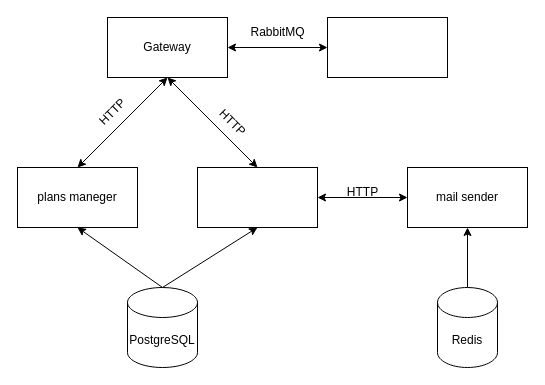
Image size: 545x385. Some labels were removed from this diagram. Here are the shapes that lost their labels. From the top down, the centre of each, then its label:
At (387,47): "Frontend".
At (257,197): "registration".
